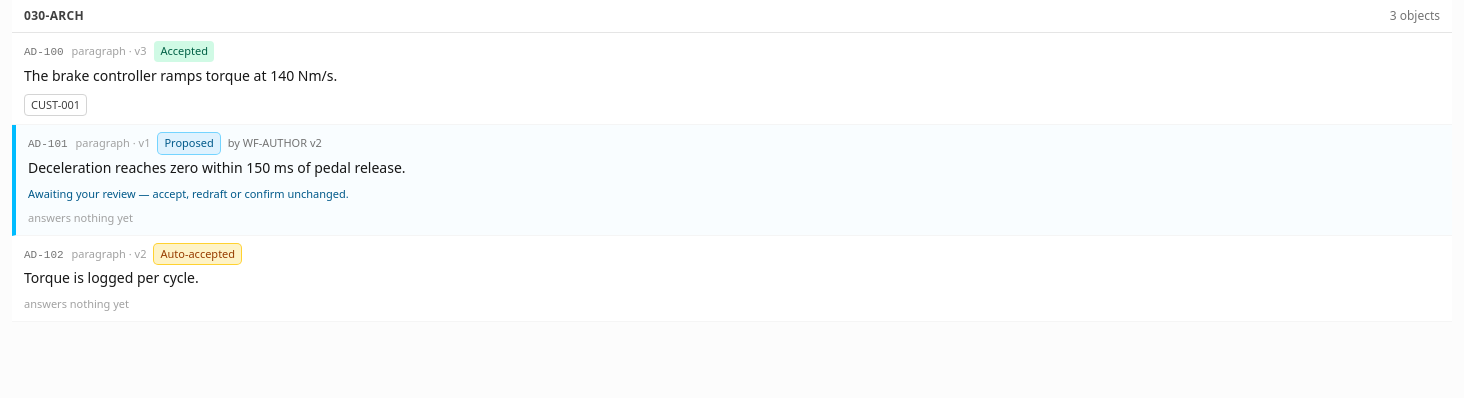
Test case: in-place link expansion (R-500-017) › clicking the same link again collapses it
The image size is (1464, 398).
Click the button with test id "link-AD-100-CUST-001": (56, 105) left=24, top=94, right=87, bottom=116
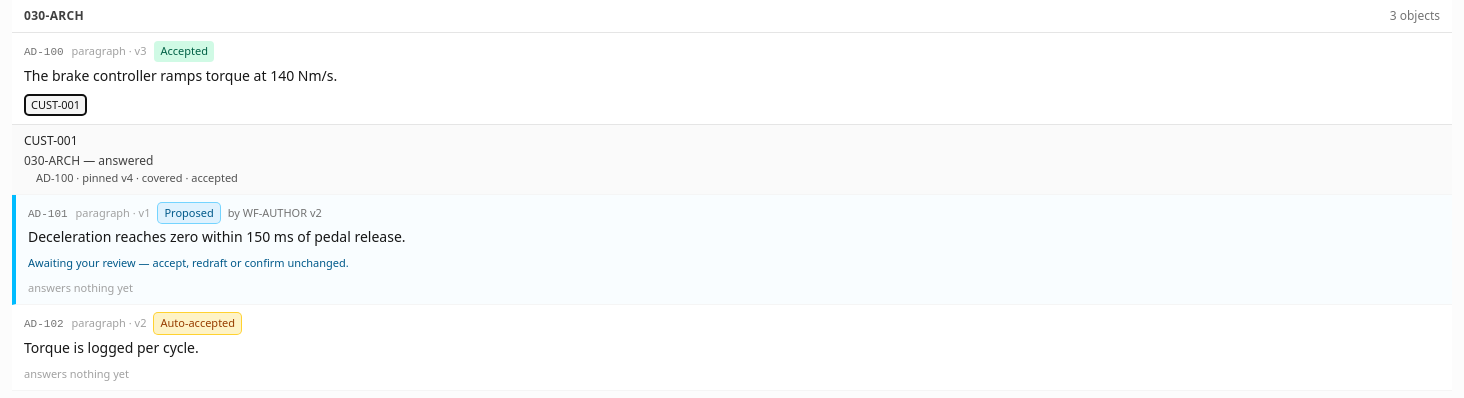
Click the button with test id "link-AD-100-CUST-001": (56, 105) left=24, top=94, right=87, bottom=116
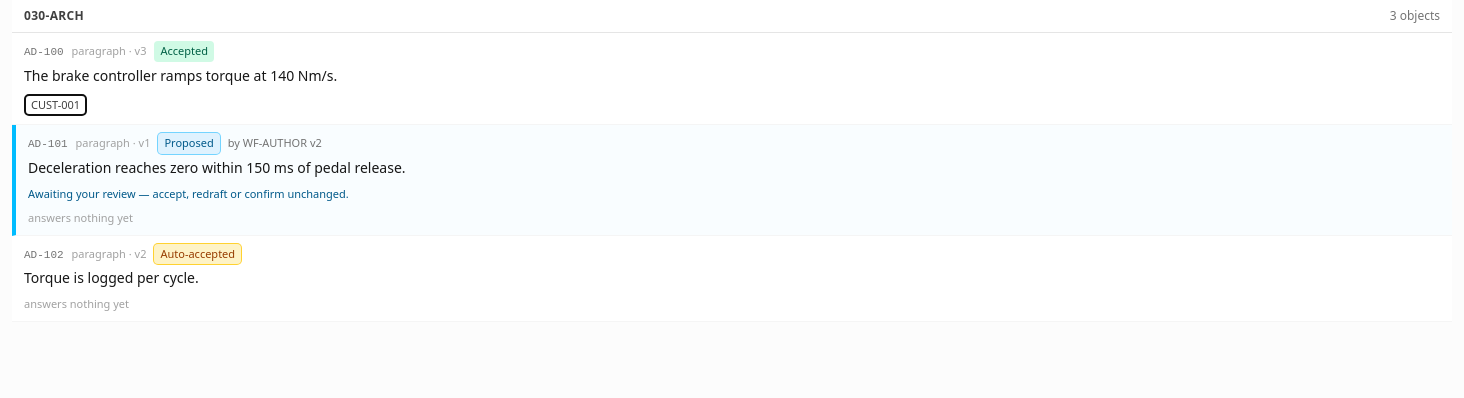
Now the element with test id "expansion-CUST-001" is gone
